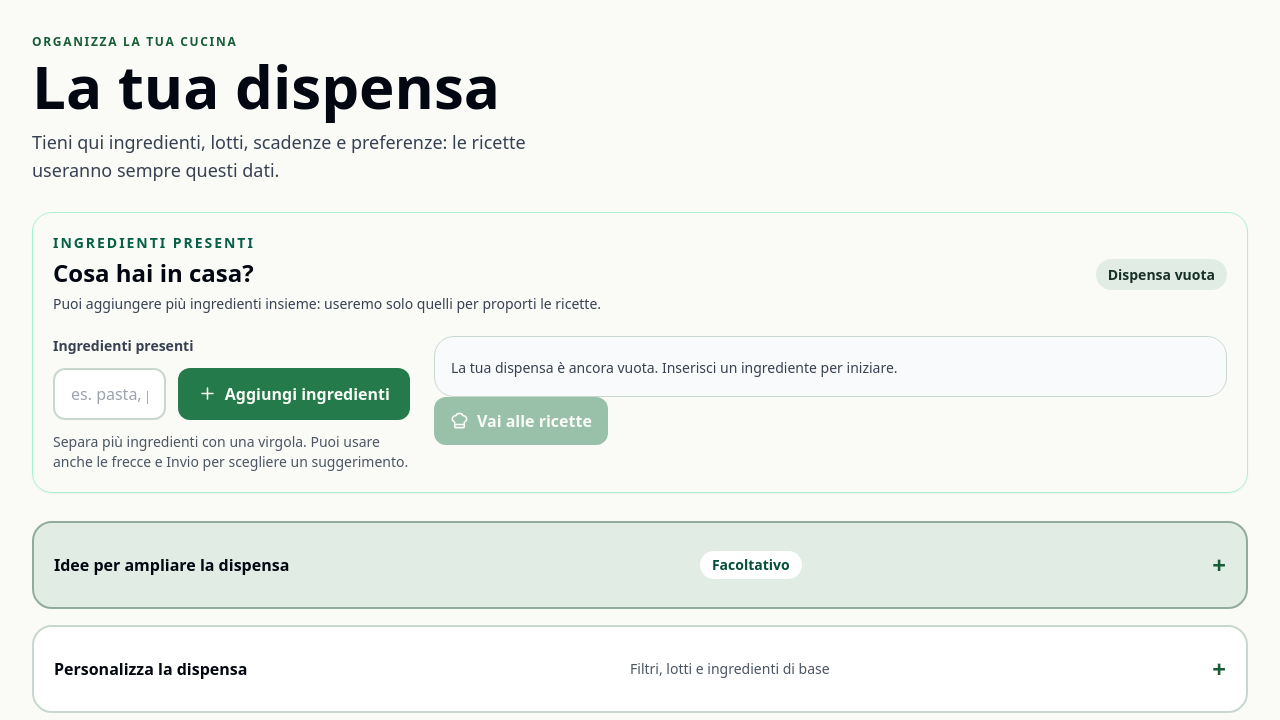
Test case: PantryPage › promotes unknown ingredients to known catalog entries on add
The width and height of the screenshot is (1280, 720).
Type "Tempeh" into the dropdown labelled "Ingredienti presenti" at coordinates (109, 394), box [53,368,166,420]
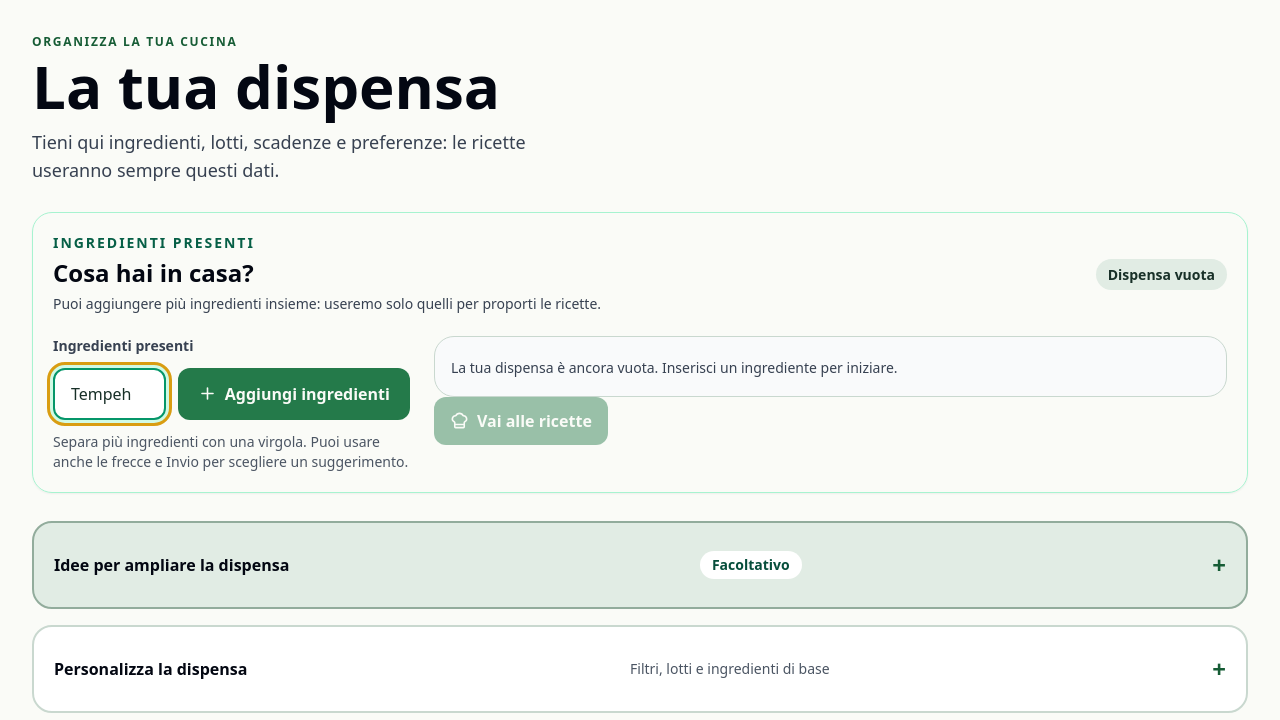
Click the button "Aggiungi ingredienti" at coordinates (294, 394), box [178,368,410,420]
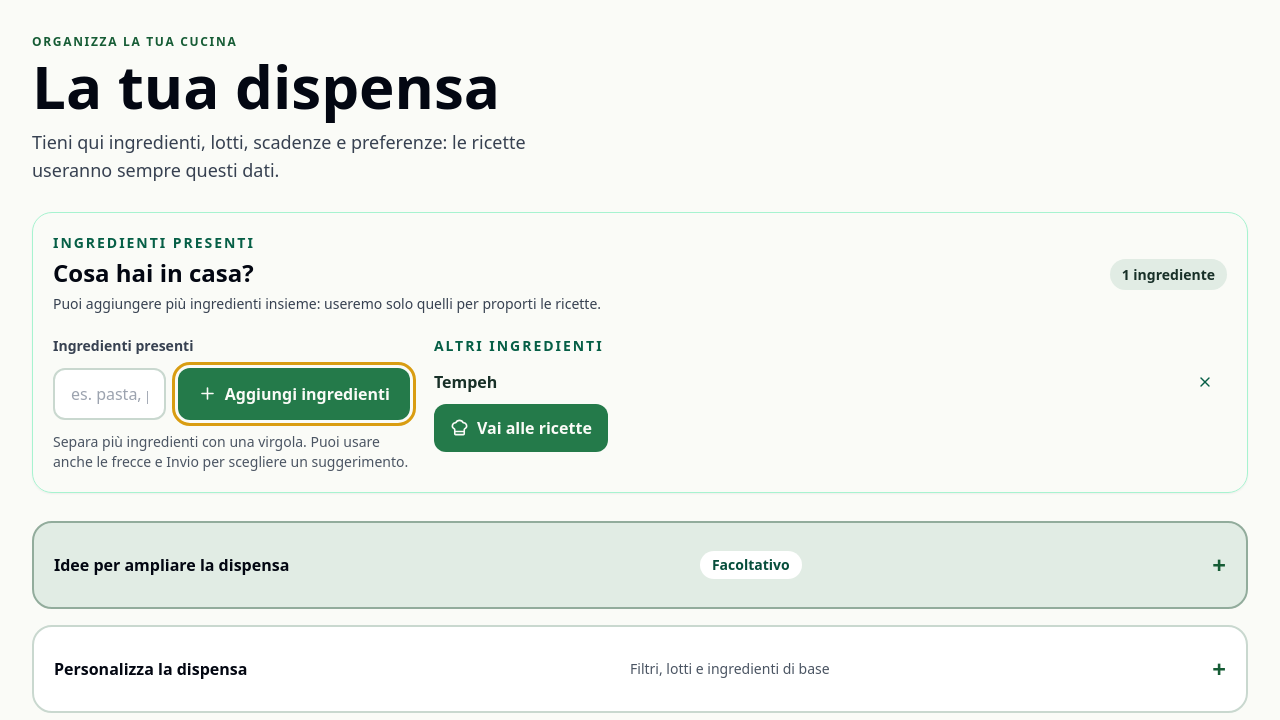
Expected: the text "Tempeh" is shown, [434,370,497,394]
